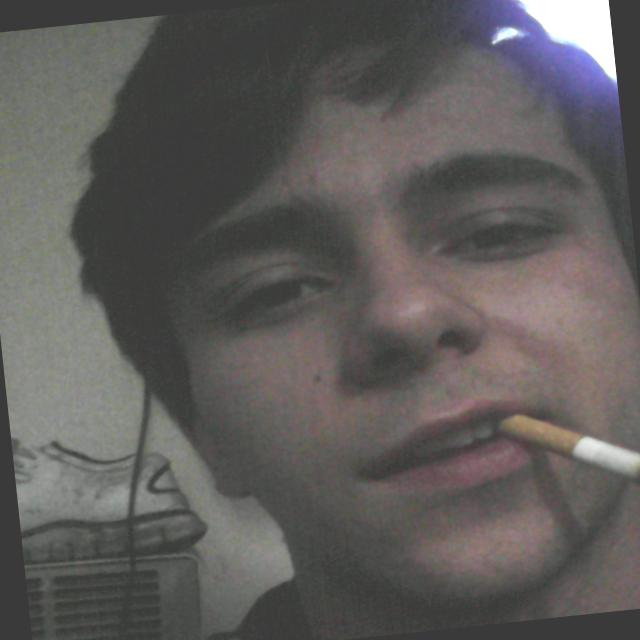smoke: (491, 396, 640, 511)
